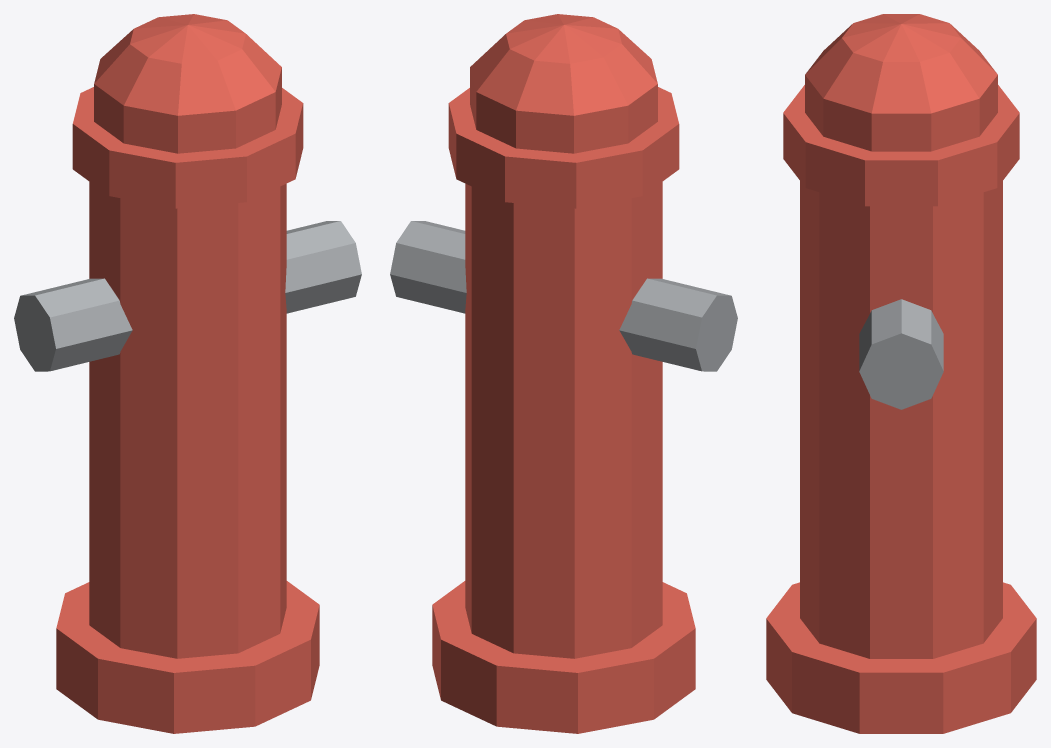
File: hydrant.glb
The picture shows the model from 3 angles, left to right: view 1: azimuth 30°, elevation 25°; view 2: azimuth 150°, elevation 25°; view 3: azimuth 270°, elevation 25°; orthographic projection.
Visible parts, largest first — view 1: hydrant; view 2: hydrant; view 3: hydrant.
Part boxes in pixels (<box>): hydrant: <box>14,14,361,733</box>; hydrant: <box>390,14,737,733</box>; hydrant: <box>766,14,1036,733</box>.
Size of the model in its own units: 0.42 by 0.856 by 0.32.
